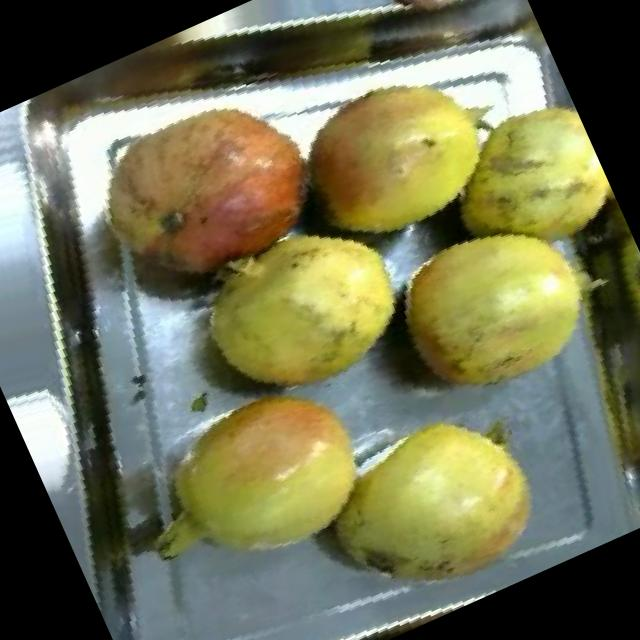fruit: (42, 41, 374, 351), (86, 318, 414, 630), (274, 359, 588, 640), (340, 163, 640, 445), (154, 184, 446, 444), (254, 24, 540, 287), (407, 65, 631, 298)
